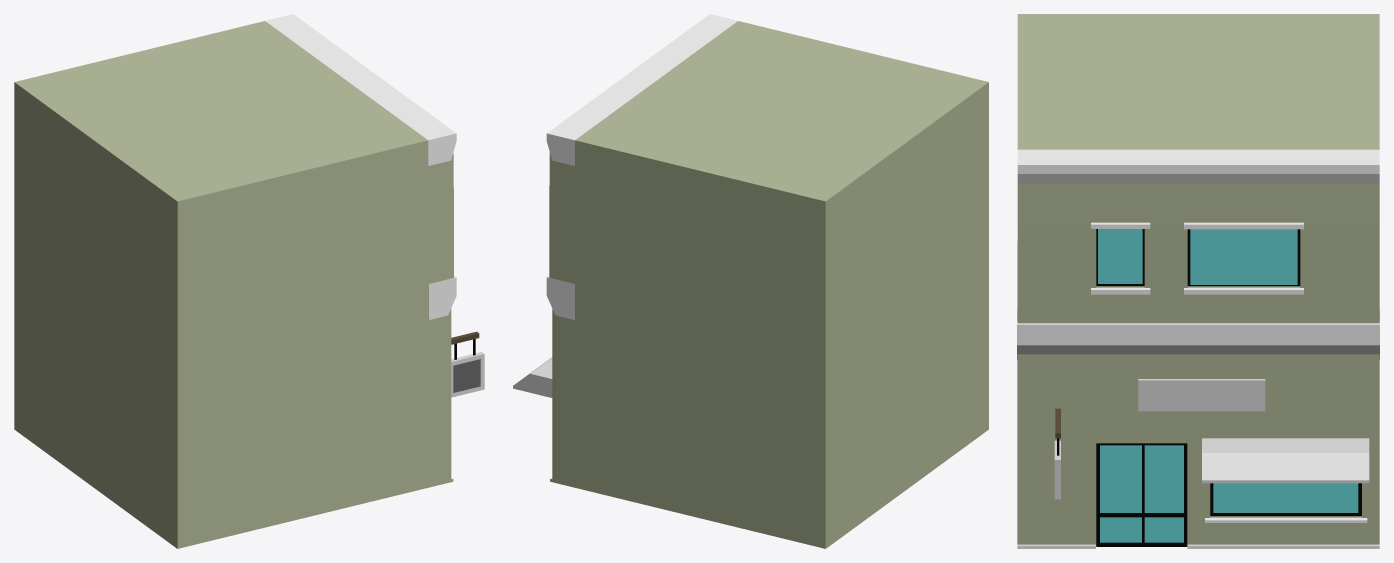
The model's file is Small Shop4.fbx.
The picture shows the model from 3 angles, left to right: view 1: azimuth 30°, elevation 25°; view 2: azimuth 150°, elevation 25°; view 3: azimuth 270°, elevation 25°; orthographic projection. The views are drawn at different scales.
Parts seen in each view (by area): view 1: Cube, Cube.023; view 2: Cube, Cube.002; view 3: Cube, Cube.002, Cube.001, Cube.023.
Part boxes in pixels (x1=…): Cube: x1=14, y1=14, x2=456, y2=548; Cube.023: x1=451, y1=331, x2=484, y2=397; Cube: x1=546, y1=14, x2=988, y2=548; Cube.002: x1=513, y1=357, x2=552, y2=397; Cube: x1=1017, y1=14, x2=1379, y2=548; Cube.002: x1=1202, y1=438, x2=1369, y2=483; Cube.001: x1=1138, y1=379, x2=1265, y2=411; Cube.023: x1=1054, y1=408, x2=1060, y2=499.
Size of the model in its own units: 2418 by 2479 by 2114.
